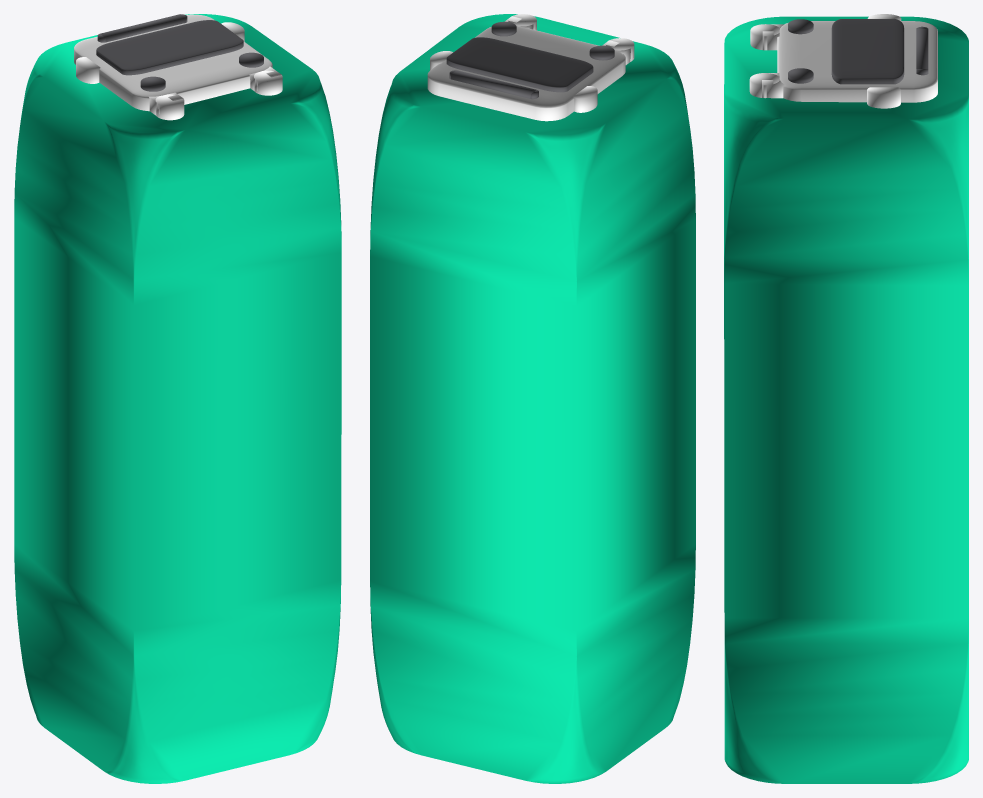
The model's file is BusStopNew.gltf.
3 views of the same model, side by side, from view 1: azimuth 30°, elevation 25°; view 2: azimuth 150°, elevation 25°; view 3: azimuth 270°, elevation 25° (orthographic). The views are drawn at different scales.
Parts seen in each view (by area): view 1: Node1, Node2, Node10, Node9, Node5, Node6; view 2: Node1, Node2, Node10, Node9; view 3: Node1, Node2, Node10, Node6, Node5, Node4, Node9.
Part boxes in pixels (bbox=[...]): Node1: bbox=[14, 14, 341, 783]; Node2: bbox=[74, 14, 272, 111]; Node10: bbox=[96, 20, 243, 75]; Node9: bbox=[97, 14, 187, 42]; Node5: bbox=[149, 92, 184, 120]; Node6: bbox=[249, 66, 282, 95]; Node1: bbox=[370, 14, 695, 783]; Node2: bbox=[427, 26, 625, 121]; Node10: bbox=[446, 37, 593, 92]; Node9: bbox=[449, 70, 538, 99]; Node1: bbox=[724, 16, 968, 783]; Node2: bbox=[777, 21, 937, 102]; Node10: bbox=[831, 19, 904, 84]; Node6: bbox=[749, 73, 785, 98]; Node5: bbox=[750, 24, 784, 50]; Node4: bbox=[867, 87, 900, 108]; Node9: bbox=[916, 26, 928, 75].
Bounding box in the file's own units: 2.18 × 6.72 × 2.18.
